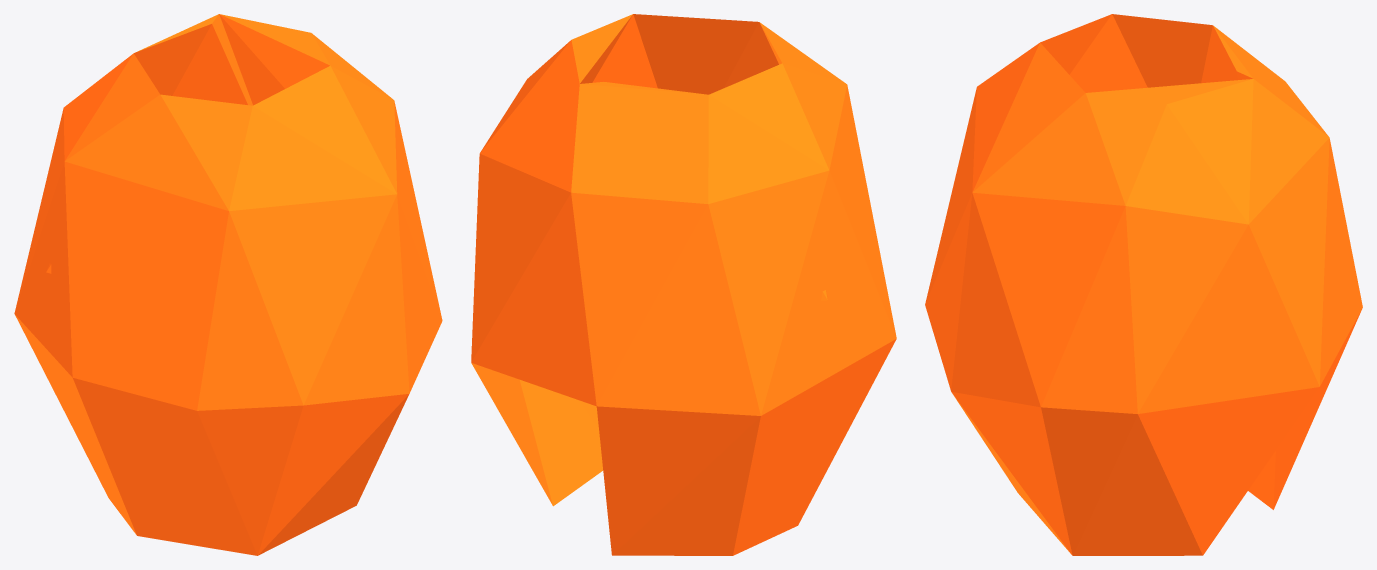
Rendered from coral3.fbx.
The picture shows the model from 3 angles, left to right: view 1: azimuth 30°, elevation 25°; view 2: azimuth 150°, elevation 25°; view 3: azimuth 270°, elevation 25°; orthographic projection. The views are drawn at different scales.
Visible parts, largest first — view 1: Corallo 1.005; view 2: Corallo 1.005; view 3: Corallo 1.005.
Boxes of the visible parts, left/top/right/bottom form: Corallo 1.005: left=14, top=14, right=442, bottom=555; Corallo 1.005: left=471, top=14, right=896, bottom=555; Corallo 1.005: left=925, top=14, right=1362, bottom=555.
Bounding box in the file's own units: 81.24 × 92.75 × 81.16.
